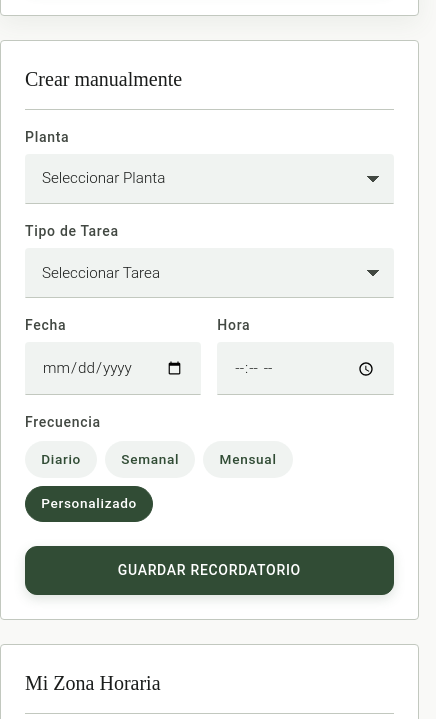
RemindersManager › prevents invalid submissions
(page scrolled)
Submit the form named "Guardar recordatorio", box 25,126 -> 394,595
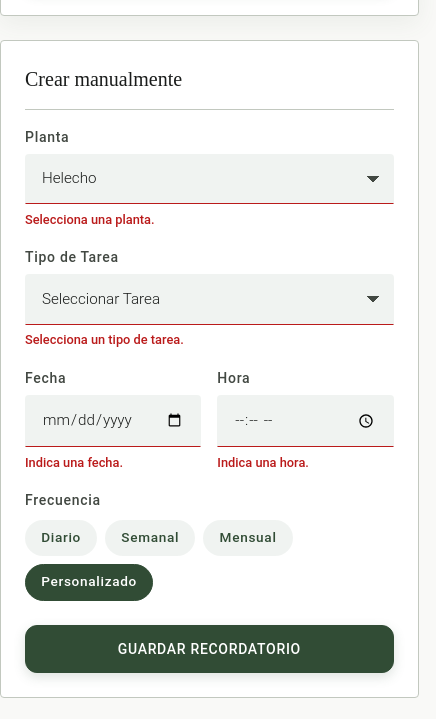
Expected: the text "Selecciona un tipo de tarea." is shown, 25,332 -> 184,347
Expected: the text "Indica una fecha." is shown, 25,455 -> 123,470
Expected: the text "Indica una hora." is shown, 217,455 -> 309,470
Select "Riego" in the dropdown labelled "Tipo de Tarea" at (209, 299), box 25,274 -> 394,325
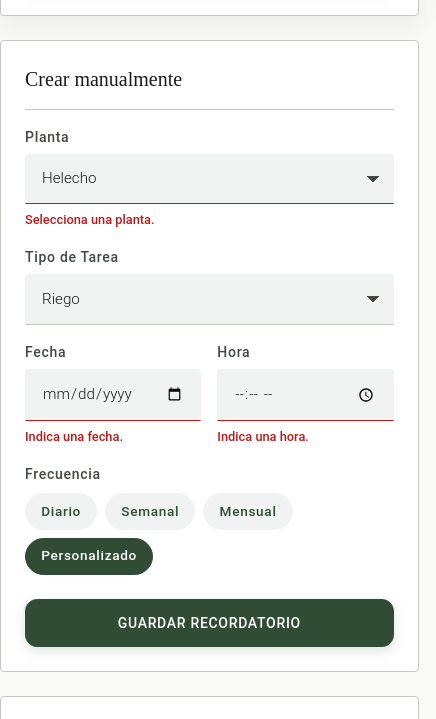
Type "2000-01-01" into the date field labelled "Fecha" at (113, 395), box 25,368 -> 201,421
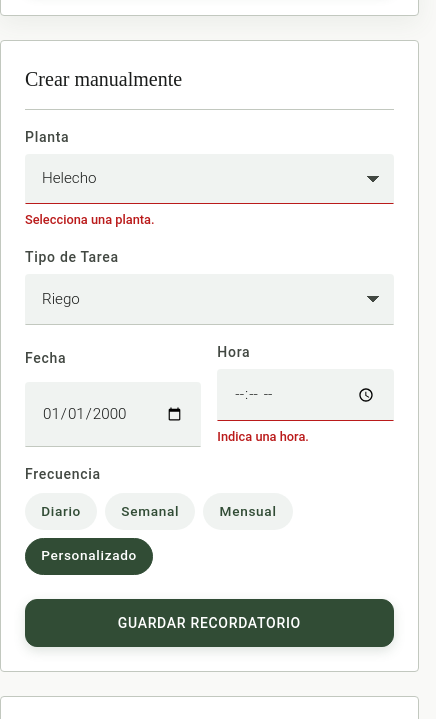
Type "09:00" into the time field labelled "Hora" at (305, 395), box 217,368 -> 394,421
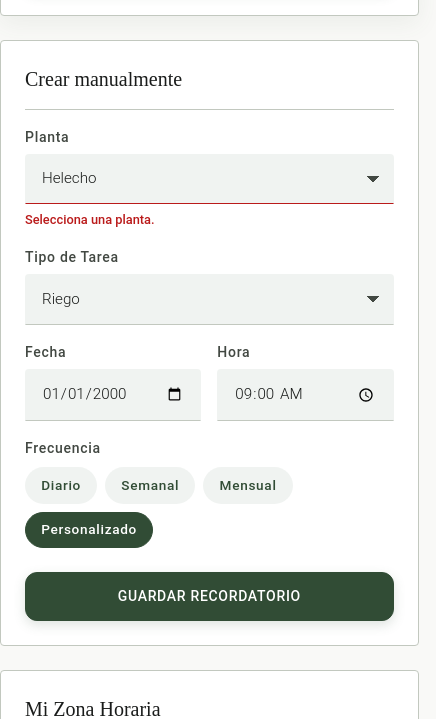
Submit the form named "Guardar recordatorio", box 25,126 -> 394,621
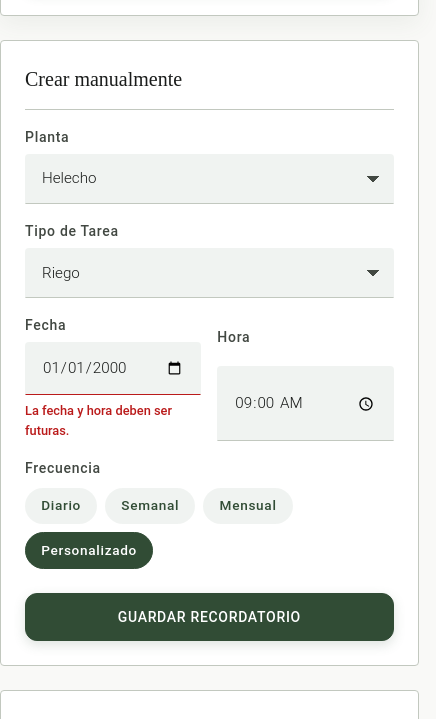
Expected: the text "La fecha y hora deben ser futuras." is shown, 25,402 -> 172,438
